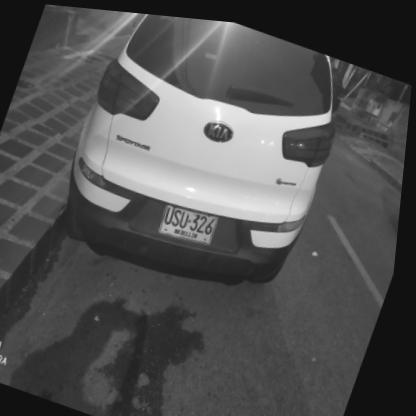placa: (156, 195, 228, 250)
